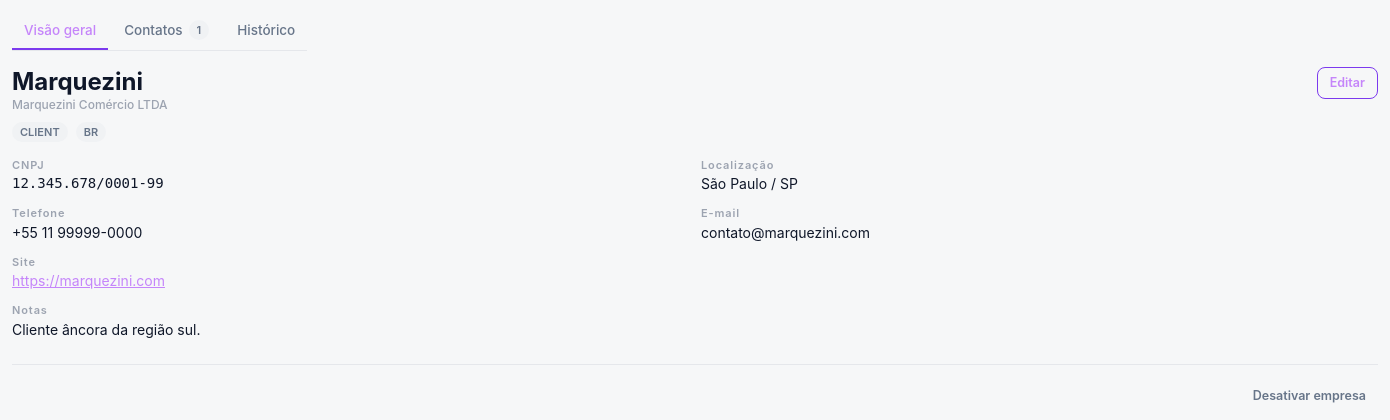
CompanyDetailContent — interações (housekeeping) › troca para a aba Histórico e mostra a data de cadastro
Click the tab "Histórico": [266, 31] box [225,12,307,50]
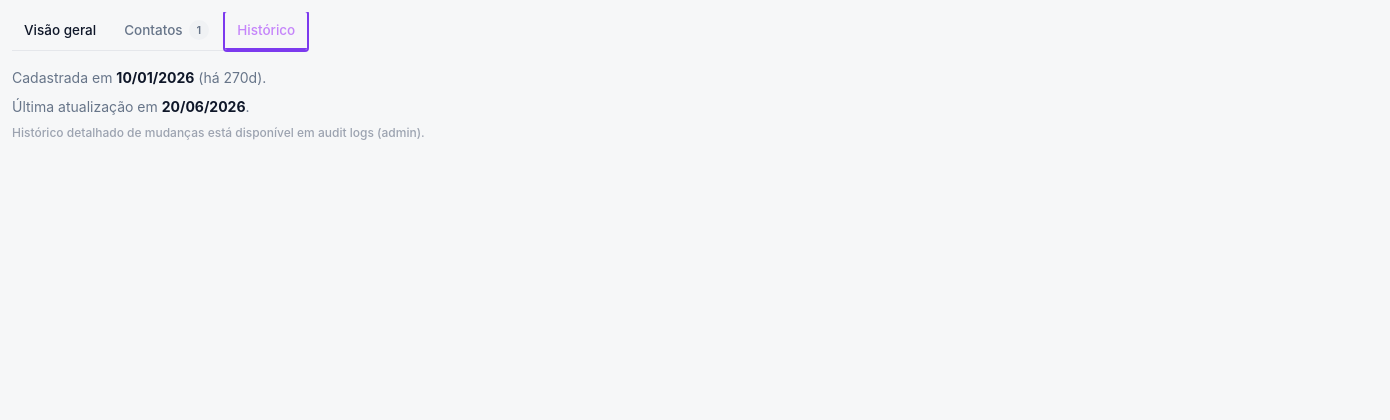
Check: the text "Cadastrada em 10/01/2026 (há 270d)." is shown, box [12,69,266,86]
Check: the text "Última atualização em 20/06/2026." is shown, box [12,98,250,115]
